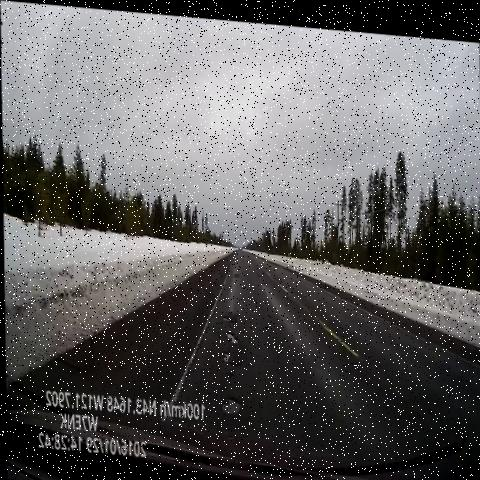pothole: (218, 384, 248, 432), (216, 348, 247, 379), (217, 321, 243, 349), (216, 299, 239, 323), (253, 263, 272, 289), (230, 258, 243, 281)
